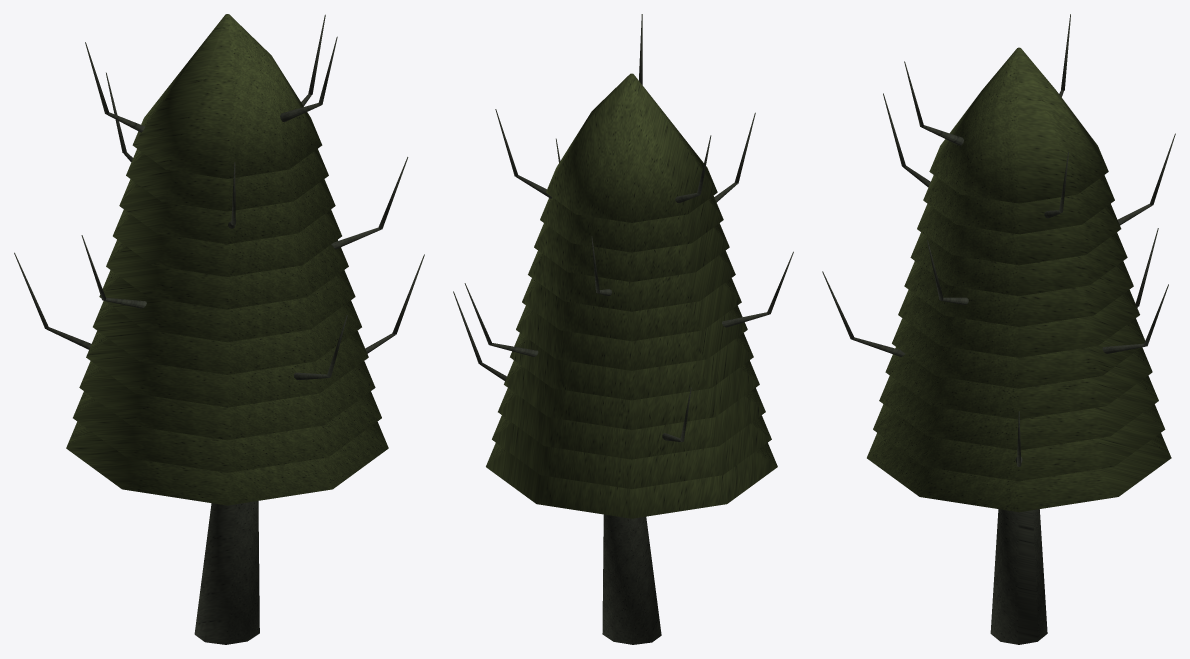
The model's file is tree_pine.glb.
The picture shows the model from 3 angles, left to right: view 1: azimuth 30°, elevation 25°; view 2: azimuth 150°, elevation 25°; view 3: azimuth 270°, elevation 25°; orthographic projection. The views are drawn at different scales.
Visible parts, largest first — view 1: ragged_pine_tier.010, ragged_pine_tier, ragged_pine_tier.001, ragged_pine_tier.002, ragged_pine_tier.003, ragged_pine_tier.004, ragged_pine_tier.005, tapered_trunk.001, ragged_pine_tier.006, ragged_pine_tier.007, ragged_pine_tier.008, ragged_pine_tier.009; view 2: ragged_pine_tier.010, ragged_pine_tier, ragged_pine_tier.001, ragged_pine_tier.002, ragged_pine_tier.003, ragged_pine_tier.004, ragged_pine_tier.005, ragged_pine_tier.006, tapered_trunk.001, ragged_pine_tier.007, ragged_pine_tier.008, ragged_pine_tier.009; view 3: ragged_pine_tier.010, ragged_pine_tier, ragged_pine_tier.001, ragged_pine_tier.002, ragged_pine_tier.003, ragged_pine_tier.004, ragged_pine_tier.005, ragged_pine_tier.006, ragged_pine_tier.007, tapered_trunk.001, ragged_pine_tier.008, ragged_pine_tier.009.
Boxes of the visible parts, x1,y1,x2,y2 form: ragged_pine_tier.010: [132, 14, 322, 178]; ragged_pine_tier: [66, 421, 388, 505]; ragged_pine_tier.001: [73, 391, 381, 472]; ragged_pine_tier.002: [79, 361, 375, 440]; ragged_pine_tier.003: [86, 330, 368, 407]; ragged_pine_tier.004: [93, 300, 361, 374]; ragged_pine_tier.005: [99, 270, 355, 342]; tapered_trunk.001: [194, 501, 259, 644]; ragged_pine_tier.006: [106, 239, 348, 309]; ragged_pine_tier.007: [113, 209, 341, 276]; ragged_pine_tier.008: [119, 179, 335, 244]; ragged_pine_tier.009: [126, 149, 328, 211]; ragged_pine_tier.010: [546, 73, 717, 222]; ragged_pine_tier: [486, 442, 777, 518]; ragged_pine_tier.001: [492, 415, 771, 489]; ragged_pine_tier.002: [498, 388, 765, 459]; ragged_pine_tier.003: [504, 360, 759, 429]; ragged_pine_tier.004: [510, 333, 753, 400]; ragged_pine_tier.005: [516, 305, 747, 370]; ragged_pine_tier.006: [522, 278, 741, 341]; tapered_trunk.001: [602, 514, 661, 644]; ragged_pine_tier.007: [528, 250, 735, 311]; ragged_pine_tier.008: [534, 223, 729, 281]; ragged_pine_tier.009: [540, 196, 723, 252]; ragged_pine_tier.010: [929, 47, 1108, 203]; ragged_pine_tier: [867, 433, 1171, 512]; ragged_pine_tier.001: [873, 404, 1165, 481]; ragged_pine_tier.002: [879, 375, 1158, 450]; ragged_pine_tier.003: [885, 347, 1152, 419]; ragged_pine_tier.004: [892, 318, 1145, 388]; ragged_pine_tier.005: [898, 289, 1139, 357]; ragged_pine_tier.006: [904, 261, 1133, 326]; ragged_pine_tier.007: [910, 232, 1127, 295]; tapered_trunk.001: [990, 509, 1047, 644]; ragged_pine_tier.008: [917, 203, 1121, 265]; ragged_pine_tier.009: [923, 175, 1114, 234].
Bounding box in the file's own units: 3.66 × 6.1 × 3.3.
Materials: 2 (2 with a texture image).
